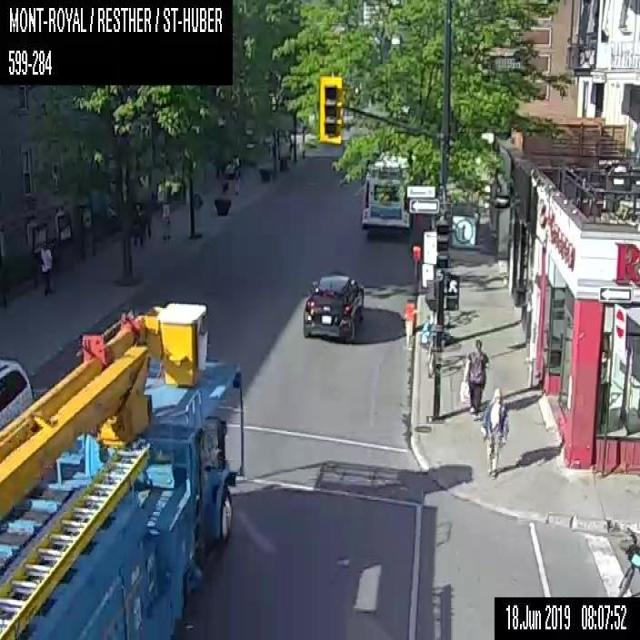bus: (360, 148, 414, 231)
construction: (405, 304, 413, 348), (411, 244, 420, 283)
pedestrian: (480, 386, 508, 478), (459, 338, 488, 413), (39, 240, 54, 294), (224, 156, 240, 193), (131, 204, 144, 245)
vehicle: (0, 298, 244, 638), (302, 273, 363, 343), (0, 359, 32, 432)
